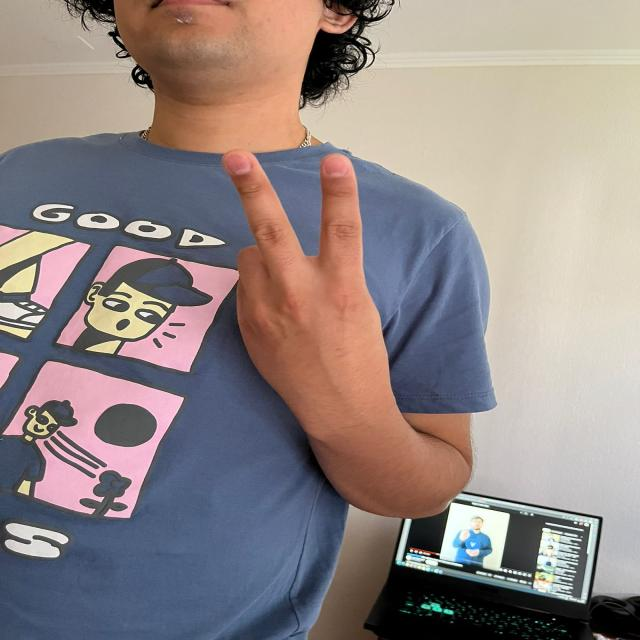V: (205, 131, 387, 416)
